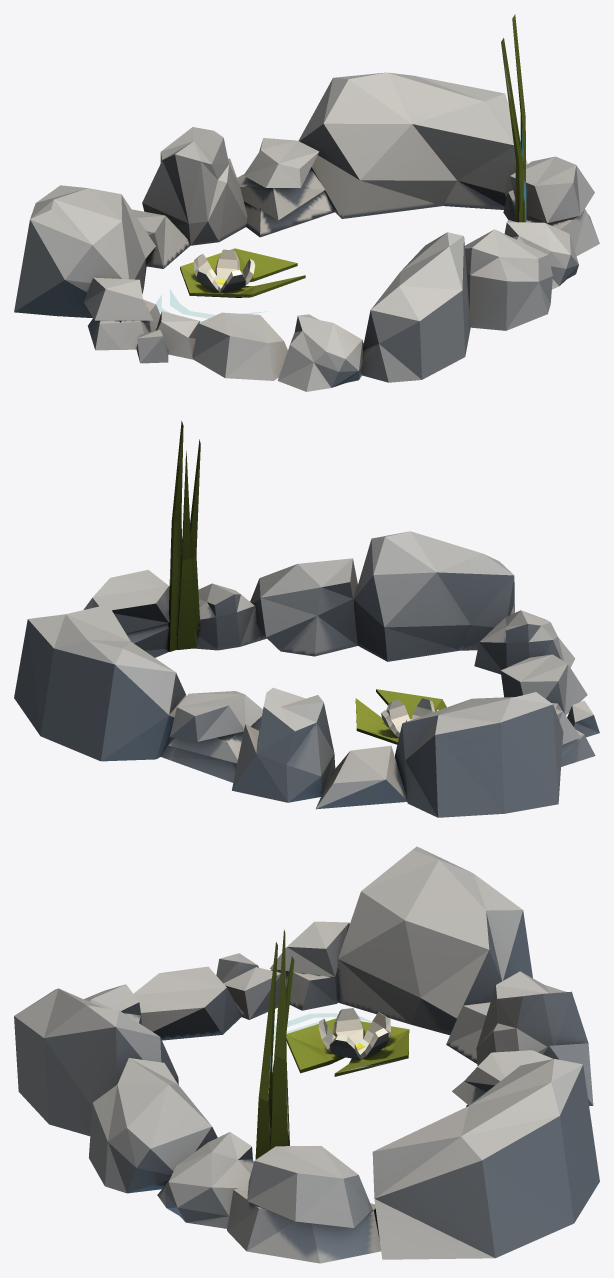
The model's file is 7a5a8cfd-9c13-4754-b944-24a8b1ea6fa6.glb.
3 renders of one model, top to bottom at view 1: azimuth 30°, elevation 25°; view 2: azimuth 150°, elevation 25°; view 3: azimuth 270°, elevation 25°, orthographic. The views are drawn at different scales.
Parts seen in each view (by area): view 1: pond; view 2: pond; view 3: pond.
Boxes of the visible parts, x1,y1,x2,y2 form: pond: (14, 14, 599, 391); pond: (14, 421, 599, 817); pond: (14, 846, 599, 1263).
Size of the model in its own units: 2.19 by 0.929 by 1.75.
Materials: 1 (1 with a texture image).
